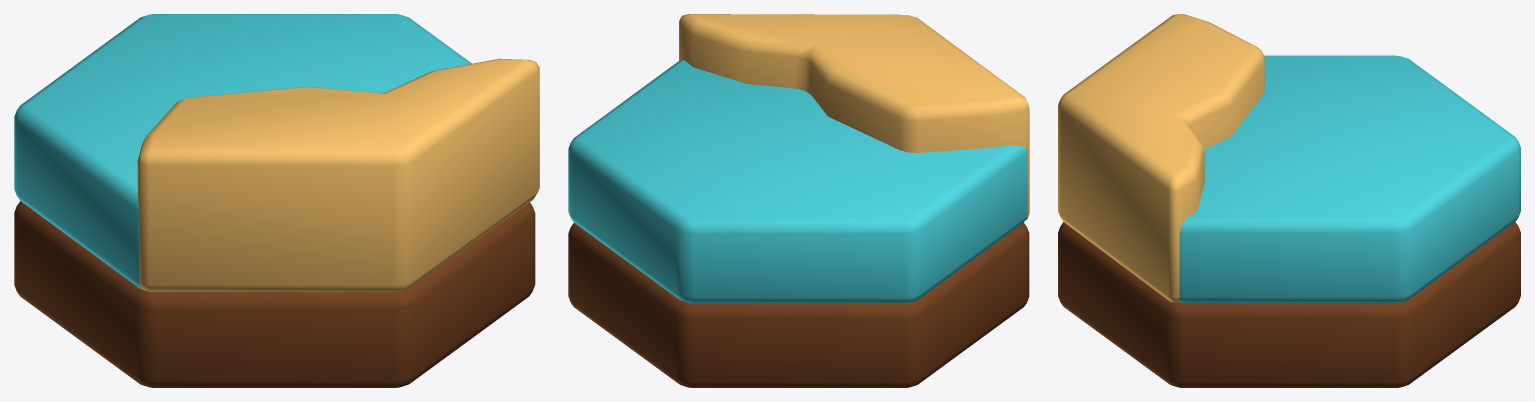
The model's file is ground_water_border3.glb.
3 renders of one model, left to right at view 1: azimuth 30°, elevation 25°; view 2: azimuth 150°, elevation 25°; view 3: azimuth 270°, elevation 25°, orthographic. The views are drawn at different scales.
Visible parts, largest first — view 1: ground_water_border3; view 2: ground_water_border3; view 3: ground_water_border3.
Boxes of the visible parts, x1,y1,x2,y2 form: ground_water_border3: (14, 14, 539, 387); ground_water_border3: (568, 14, 1029, 387); ground_water_border3: (1058, 14, 1520, 387).
Bounding box in the file's own units: 6.97 × 4 × 7.9.
